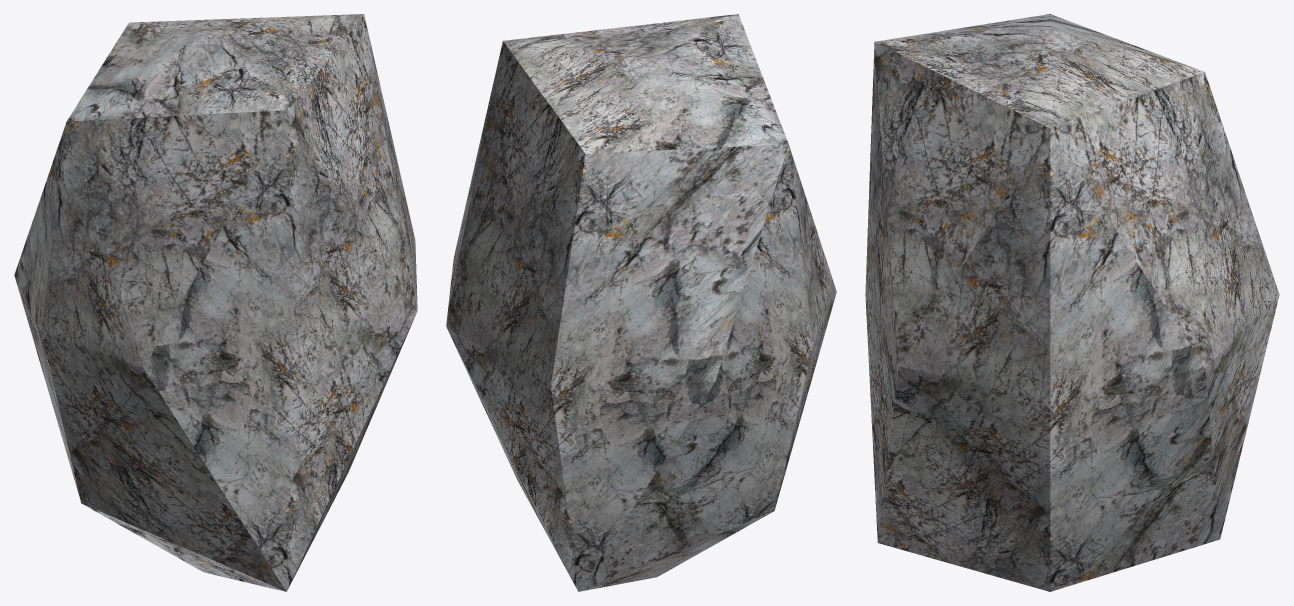
The model's file is granite_crag_far.gltf.
The picture shows the model from 3 angles, left to right: view 1: azimuth 30°, elevation 25°; view 2: azimuth 150°, elevation 25°; view 3: azimuth 270°, elevation 25°; orthographic projection. The views are drawn at different scales.
Parts seen in each view (by area): view 1: granite_crag_far; view 2: granite_crag_far; view 3: granite_crag_far.
Boxes of the visible parts, left/top/right/bottom form: granite_crag_far: left=14, top=14, right=417, bottom=591; granite_crag_far: left=446, top=14, right=836, bottom=591; granite_crag_far: left=865, top=14, right=1279, bottom=591.
Bounding box in the file's own units: 1.55 × 2.12 × 1.43.
1 material, 1 textured.
